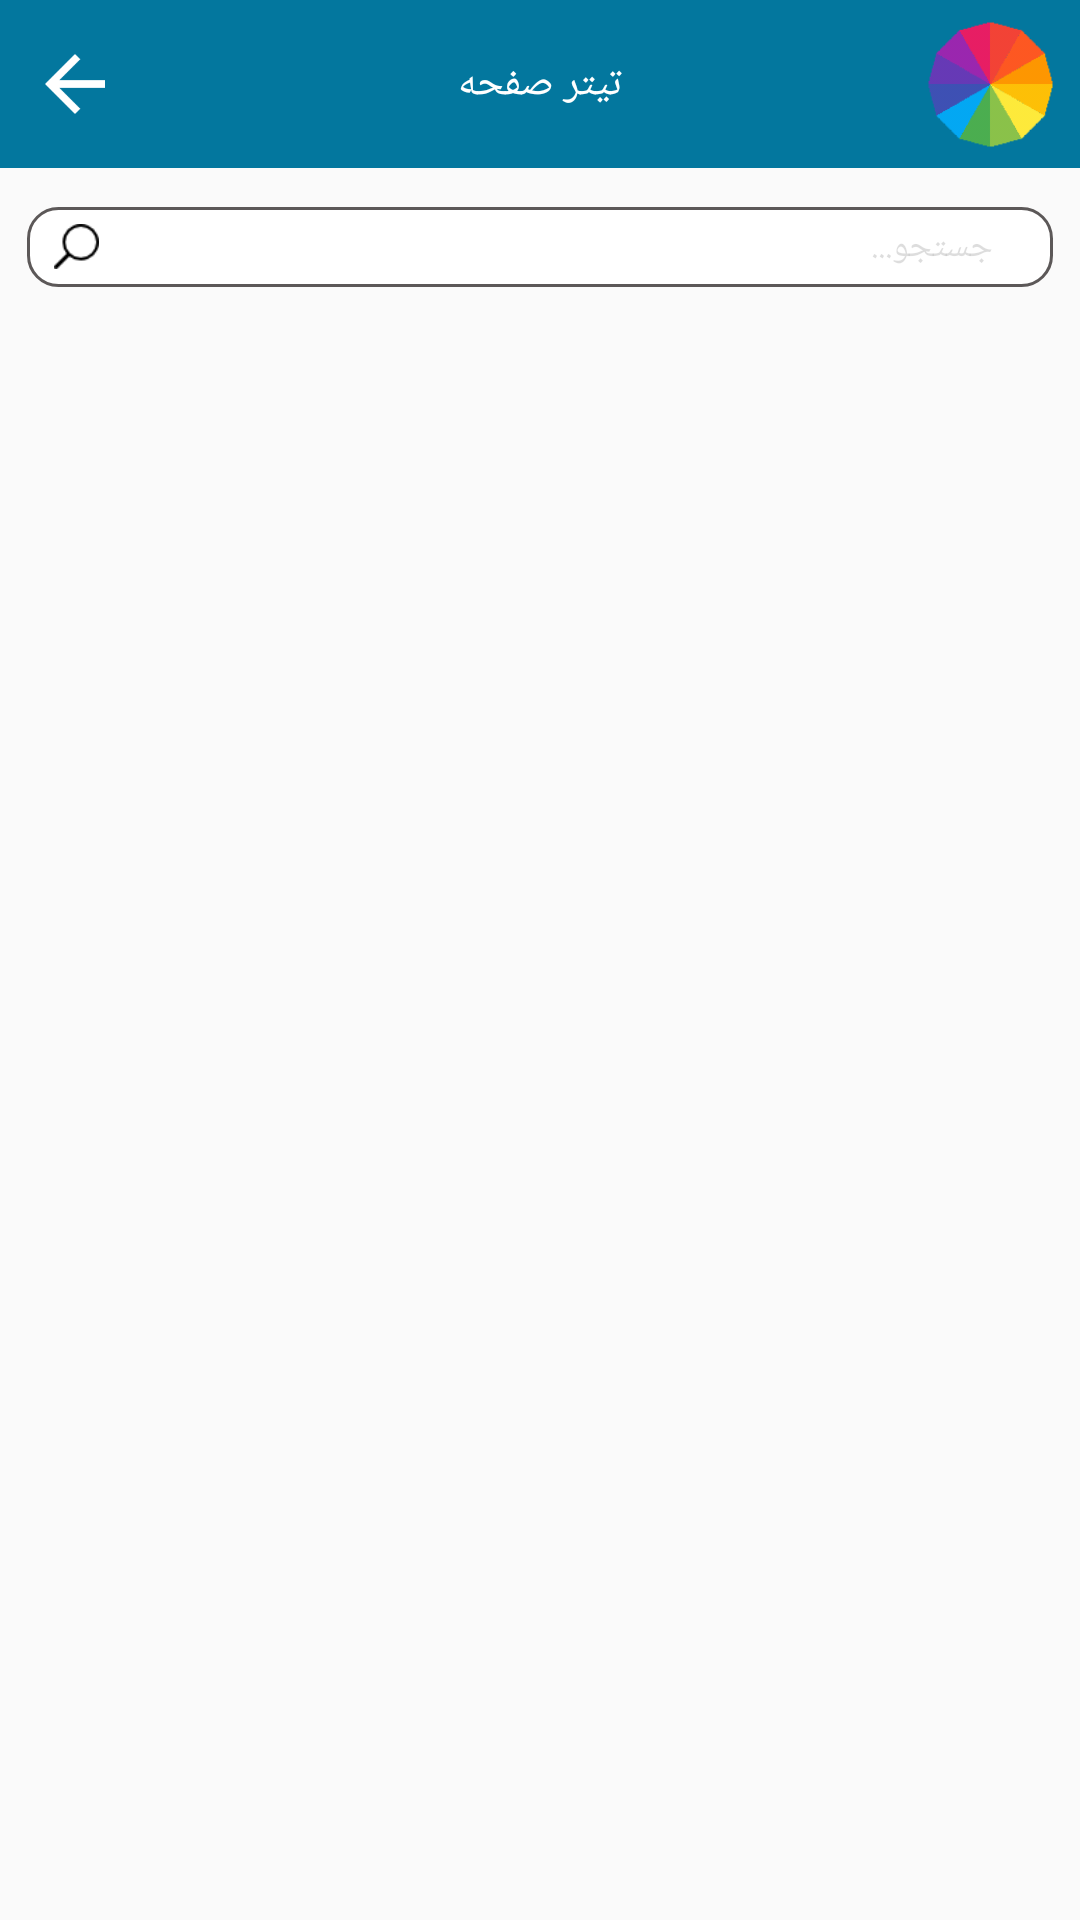

Icons on this 1080px x 1920px Android screen, each with its box as [left=x1, top=y1, right=x2, bottom=y2]:
arrow left: [left=45, top=54, right=105, bottom=114]
searchicon: [left=54, top=224, right=99, bottom=269]
